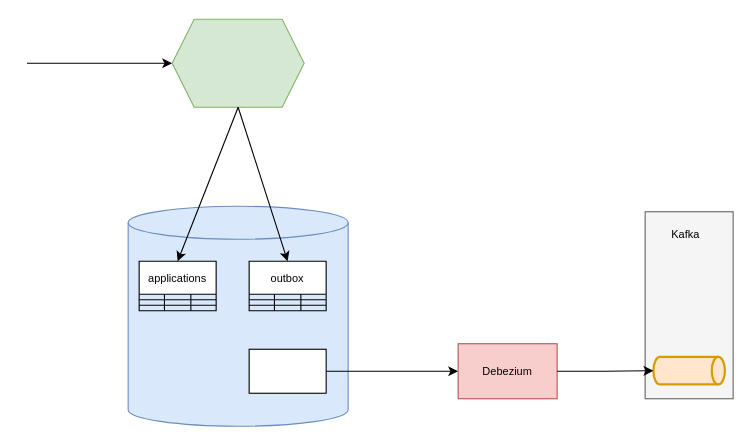
The diagram is 752 pixels wide and 446 high, and some of its shapes have lost their labels. Each missing label, with the box of its shape:
Application Service: (171, 18, 304, 107)
Transaction Log: (248, 348, 326, 393)
